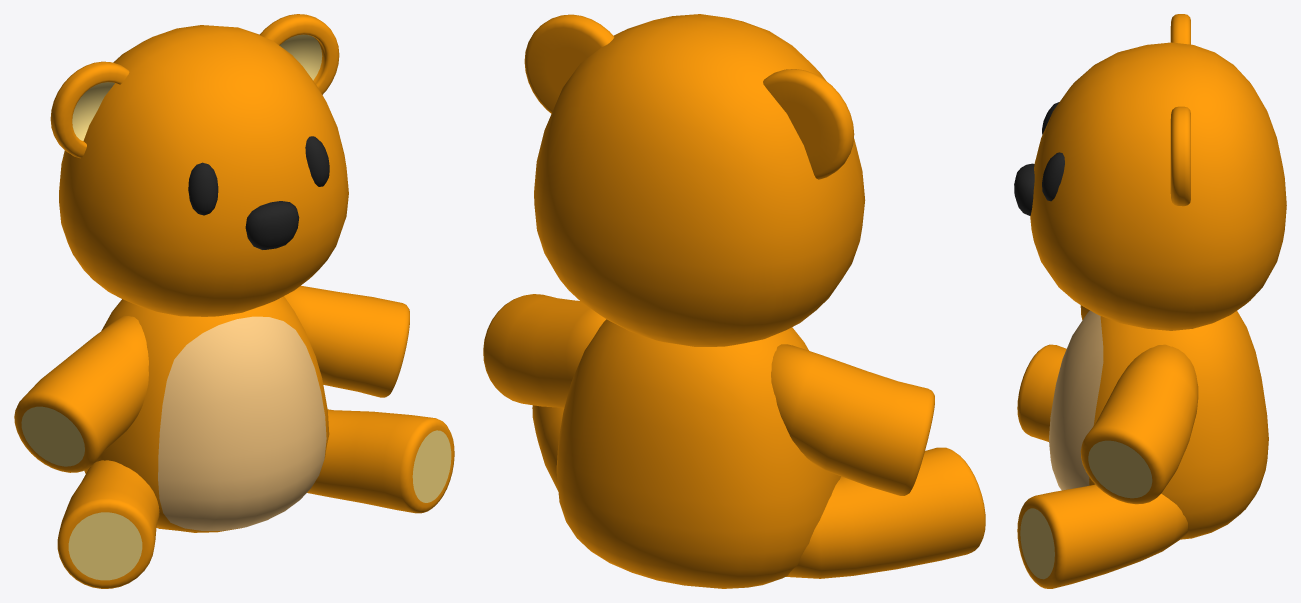
File: teddy_bear.gltf
3 views of the same model, side by side, from view 1: azimuth 30°, elevation 25°; view 2: azimuth 150°, elevation 25°; view 3: azimuth 270°, elevation 25° (orthographic). The views are drawn at different scales.
Visible parts, largest first — view 1: Cube.845; view 2: Cube.845; view 3: Cube.845.
Boxes of the visible parts, x1,y1,x2,y2 form: Cube.845: [14, 14, 454, 588]; Cube.845: [483, 14, 985, 588]; Cube.845: [1014, 14, 1286, 588].
Bounding box in the file's own units: 1.84 × 2.09 × 1.13.
1 material, 1 textured.
